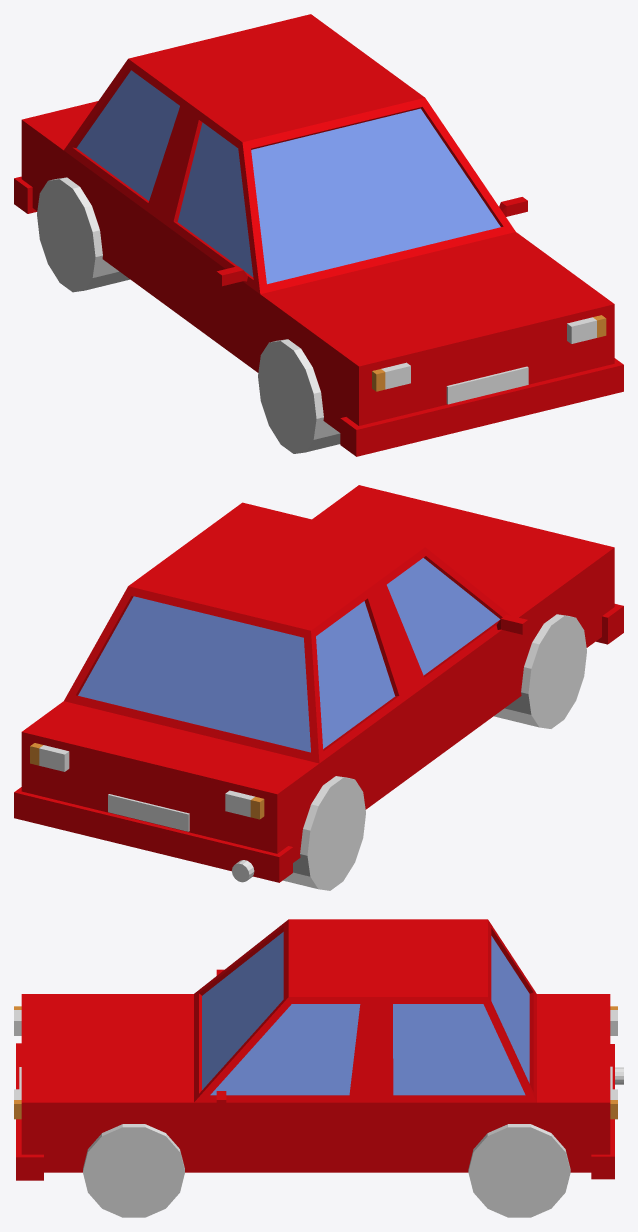
File: car2.gltf
The picture shows the model from 3 angles, top to bottom: view 1: azimuth 30°, elevation 25°; view 2: azimuth 150°, elevation 25°; view 3: azimuth 270°, elevation 25°; orthographic projection. The views are drawn at different scales.
Parts seen in each view (by area): view 1: Body, Wheelhouse_B, Wheelhouse_F, Headlights_L, Licenseplate_F, Sidemirrors; view 2: Body, Wheelhouse_F, Wheelhouse_B, Taillight_L, Licenseplate_B; view 3: Body, Wheelhouse_B, Wheelhouse_F, Headlights_L, Taillight_L.
Part boxes in pixels (bbox=[...]): Body: bbox=[14, 14, 623, 456]; Wheelhouse_B: bbox=[37, 177, 129, 292]; Wheelhouse_F: bbox=[258, 339, 340, 453]; Headlights_L: bbox=[372, 315, 606, 391]; Licenseplate_F: bbox=[446, 366, 528, 404]; Sidemirrors: bbox=[216, 197, 527, 286]; Body: bbox=[14, 485, 623, 882]; Wheelhouse_F: bbox=[494, 614, 586, 728]; Wheelhouse_B: bbox=[283, 776, 365, 890]; Taillight_L: bbox=[30, 743, 264, 819]; Licenseplate_B: bbox=[108, 794, 189, 831]; Body: bbox=[16, 919, 614, 1180]; Wheelhouse_B: bbox=[468, 1124, 570, 1217]; Wheelhouse_F: bbox=[83, 1124, 184, 1217]; Headlights_L: bbox=[14, 1006, 21, 1119]; Taillight_L: bbox=[610, 1006, 617, 1119].
Size of the model in its own units: 2.39 by 1.73 by 4.74.
